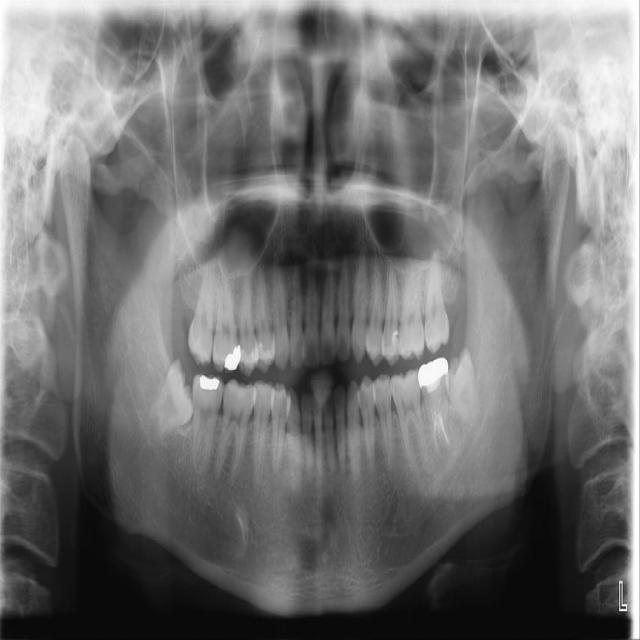52: (414, 356, 453, 394), (190, 374, 225, 406), (213, 334, 241, 372), (382, 328, 400, 367)
73: (620, 619, 628, 625)
BioHorizons Implant: (424, 251, 451, 352)
Biomet 3i Implant: (440, 346, 484, 433)
Blue Sky Bio Implant: (417, 356, 454, 468)
Caries: (187, 261, 219, 368)
Implant: (184, 373, 225, 475)
Keystone Dental Implant: (136, 357, 213, 452)
